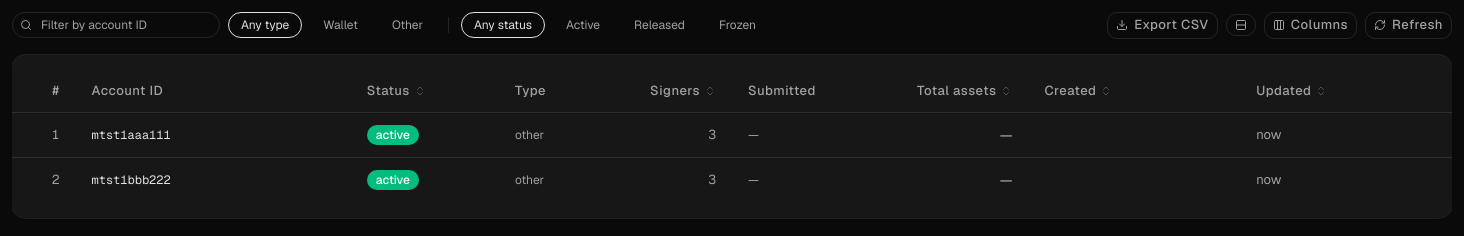
Test: AccountsPanel › narrows the rows to an account ID substring, in either encoding
This screenshot has width=1464, height=236.
Note: A hex fragment finds the row even though the table renders bech32.
In the field labelled "Filter by account ID": {"x": 116, "y": 25} top-left (12, 12), bottom-right (220, 38), type "bbb2"
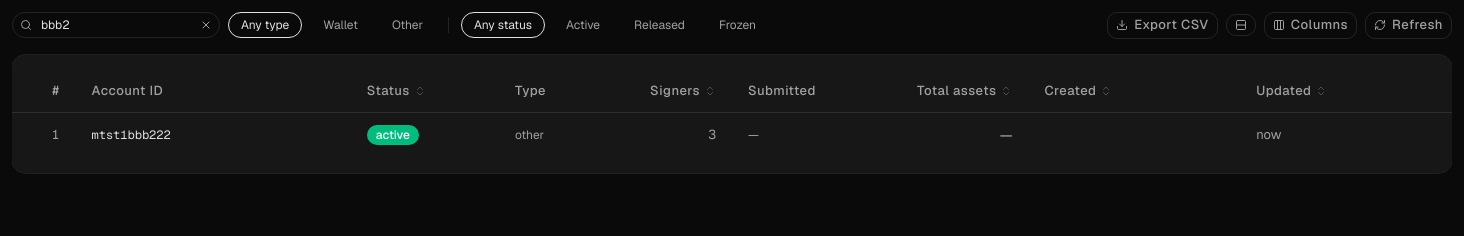
Expected: the link "mtst1bbb222" is shown, top-left (92, 127), bottom-right (171, 143)
Expected: the link "mtst1aaa111" is gone
Click the button named "Clear filter": {"x": 206, "y": 25} top-left (200, 19), bottom-right (212, 31)
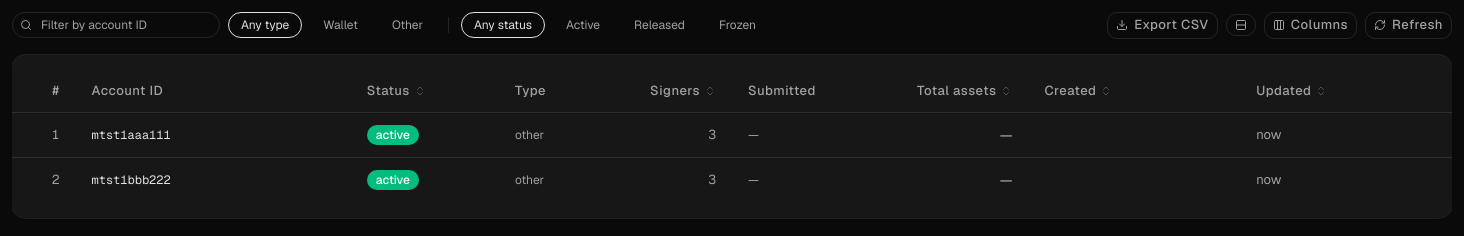
Expected: the link "mtst1aaa111" is shown, top-left (92, 127), bottom-right (171, 143)
